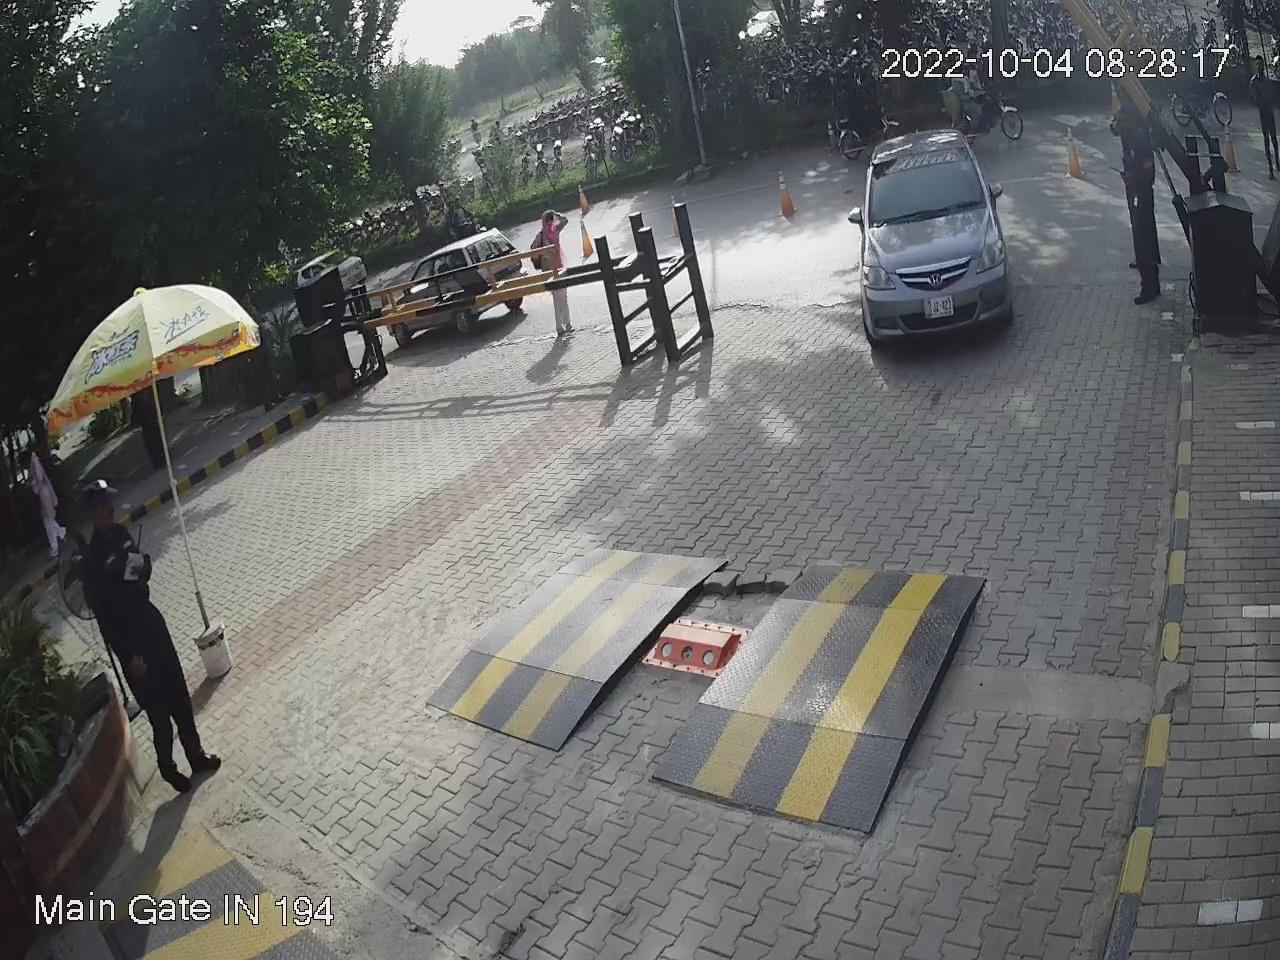windshield: (868, 147, 998, 230)
